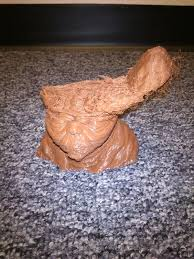fail: (42, 65, 153, 117), (165, 46, 184, 95)
